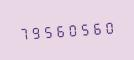five: (41, 21, 52, 41), (77, 19, 88, 38)
nine: (29, 22, 40, 41)
seven: (17, 23, 28, 42)
six: (53, 20, 64, 40), (89, 18, 100, 37)
zero: (65, 20, 76, 39), (101, 17, 112, 36)
